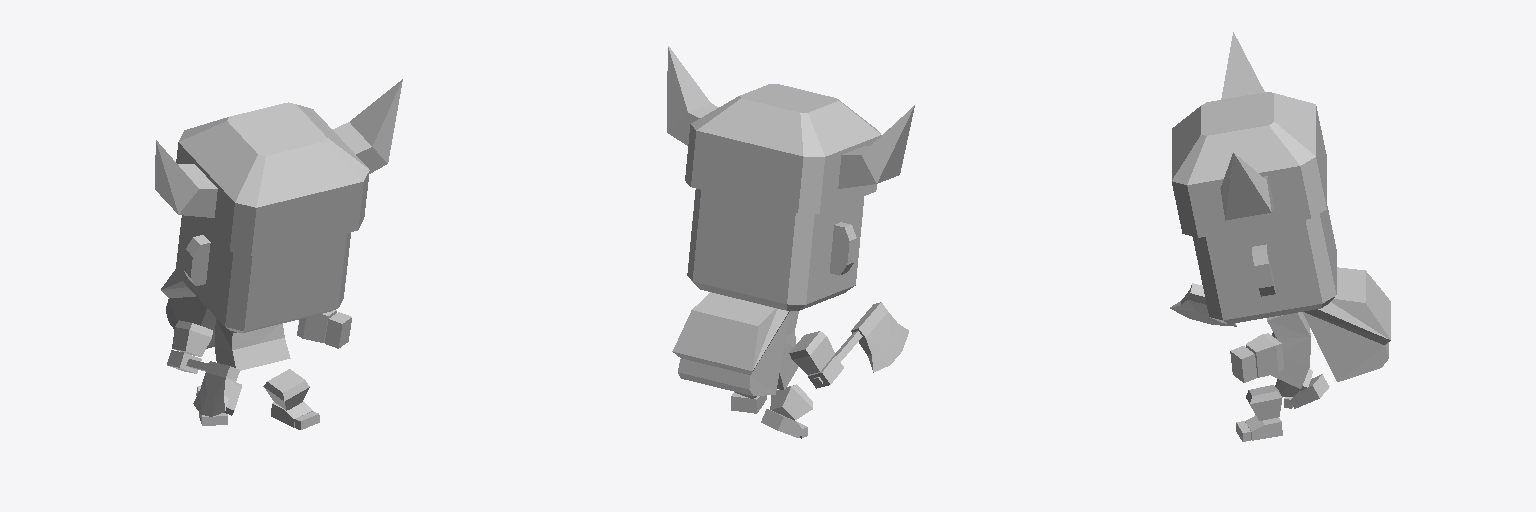
Rendered from mini_knight_000016.obj.
3 views of the same model, side by side, from view 1: azimuth 30°, elevation 25°; view 2: azimuth 150°, elevation 25°; view 3: azimuth 270°, elevation 25° (orthographic).
Visible parts, largest first — view 1: cap_Object01_Material__3, Mesh_objheadusOBJexport_Material, axe_Object02_Material__3, back_Object03_Material__3; view 2: cap_Object01_Material__3, Mesh_objheadusOBJexport_Material, back_Object03_Material__3, axe_Object02_Material__3; view 3: cap_Object01_Material__3, Mesh_objheadusOBJexport_Material, back_Object03_Material__3, axe_Object02_Material__3.
Boxes of the visible parts, box(x1,y1,x2,y2) form: cap_Object01_Material__3: box(155, 79, 402, 255); Mesh_objheadusOBJexport_Material: box(167, 215, 351, 429); axe_Object02_Material__3: box(186, 359, 239, 416); back_Object03_Material__3: box(161, 269, 215, 348); cap_Object01_Material__3: box(667, 46, 914, 213); Mesh_objheadusOBJexport_Material: box(687, 189, 863, 438); back_Object03_Material__3: box(672, 292, 789, 395); axe_Object02_Material__3: box(813, 302, 908, 384); cap_Object01_Material__3: box(1172, 32, 1326, 237); Mesh_objheadusOBJexport_Material: box(1193, 206, 1336, 441); back_Object03_Material__3: box(1303, 267, 1390, 381); axe_Object02_Material__3: box(1170, 283, 1236, 326).
Bounding box in the file's own units: 1.94 × 2.46 × 1.51.